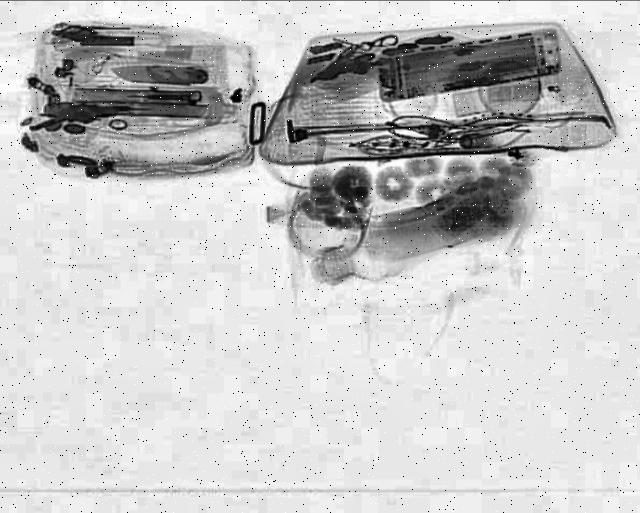Knife: (110, 66, 206, 88)
